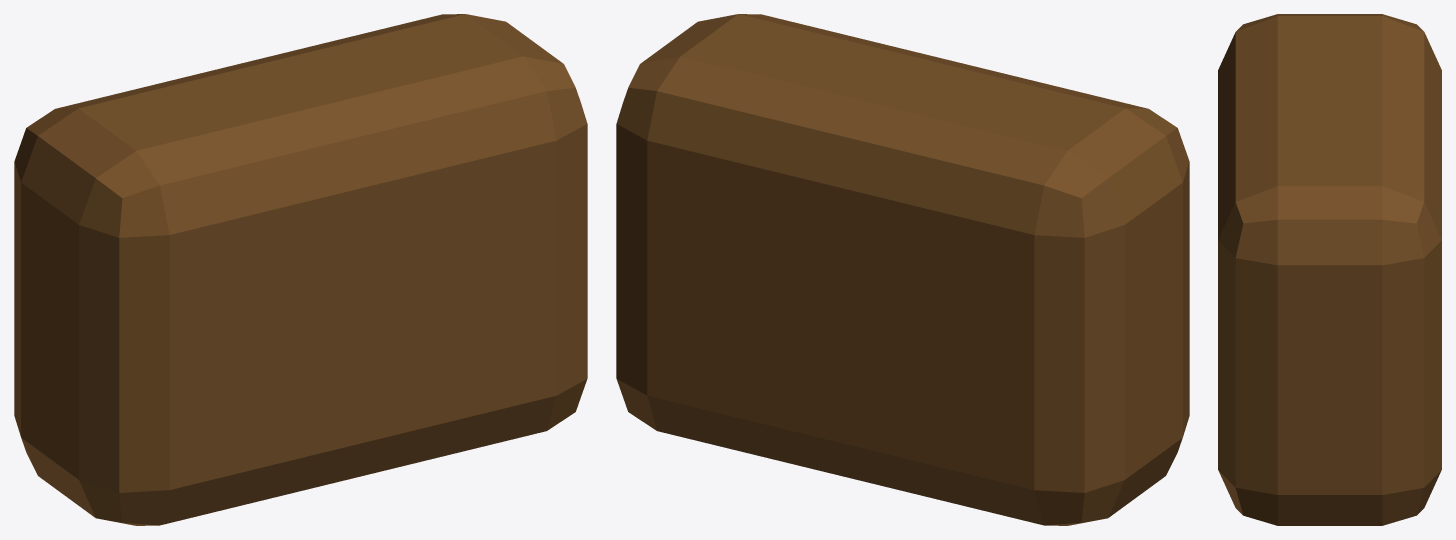
The model's file is fx_wood_chip.glb.
The picture shows the model from 3 angles, left to right: view 1: azimuth 30°, elevation 25°; view 2: azimuth 150°, elevation 25°; view 3: azimuth 270°, elevation 25°; orthographic projection. The views are drawn at different scales.
Visible parts, largest first — view 1: fx_chip; view 2: fx_chip; view 3: fx_chip.
Boxes of the visible parts, left/top/right/bottom form: fx_chip: left=14, top=14, right=587, bottom=525; fx_chip: left=616, top=14, right=1189, bottom=525; fx_chip: left=1218, top=14, right=1441, bottom=525.
Size of the model in its own units: 0.07 by 0.05 by 0.03.
